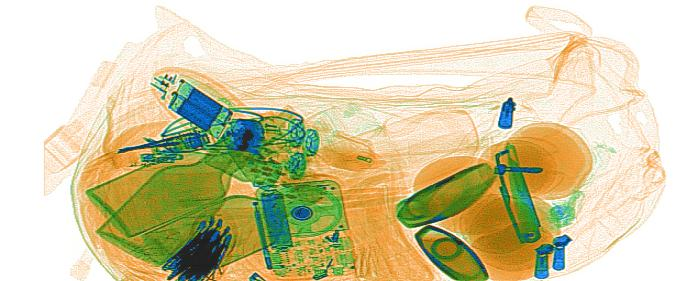battery: (163, 78, 232, 139), (260, 191, 293, 251)
knife: (93, 142, 253, 268), (492, 142, 543, 248)
plasticBottleWithaNozzle: (300, 125, 382, 169)
